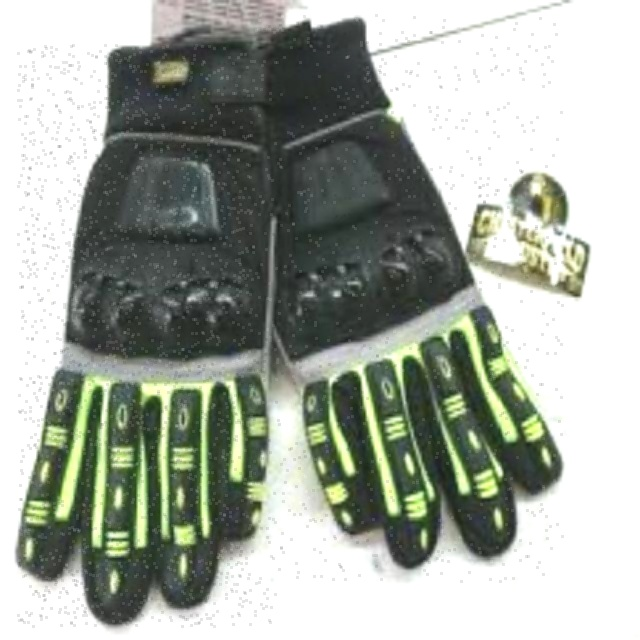gloves: (252, 16, 573, 569), (21, 45, 274, 624)
